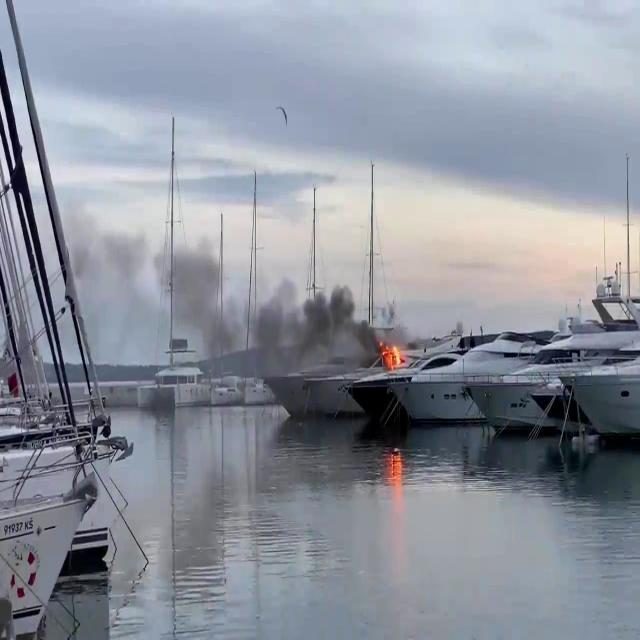Fire: (380, 334, 410, 373)
Smoke: (90, 188, 376, 394)
